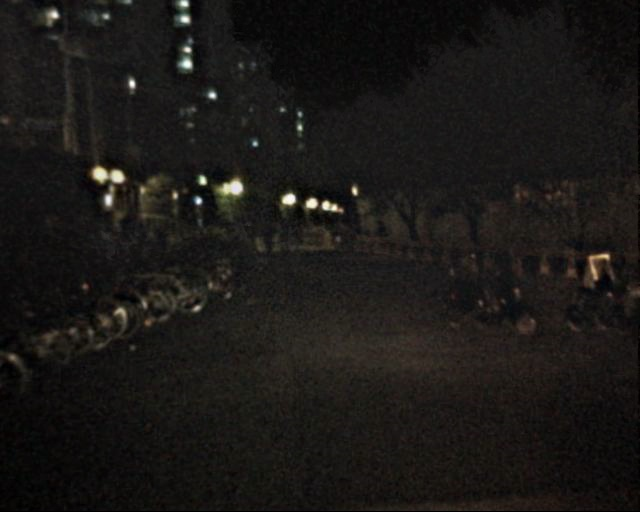person: (97, 224, 118, 276), (134, 219, 154, 267), (151, 223, 169, 267), (223, 220, 254, 245), (273, 216, 291, 259), (259, 221, 276, 262), (374, 222, 390, 260), (292, 222, 300, 241)
